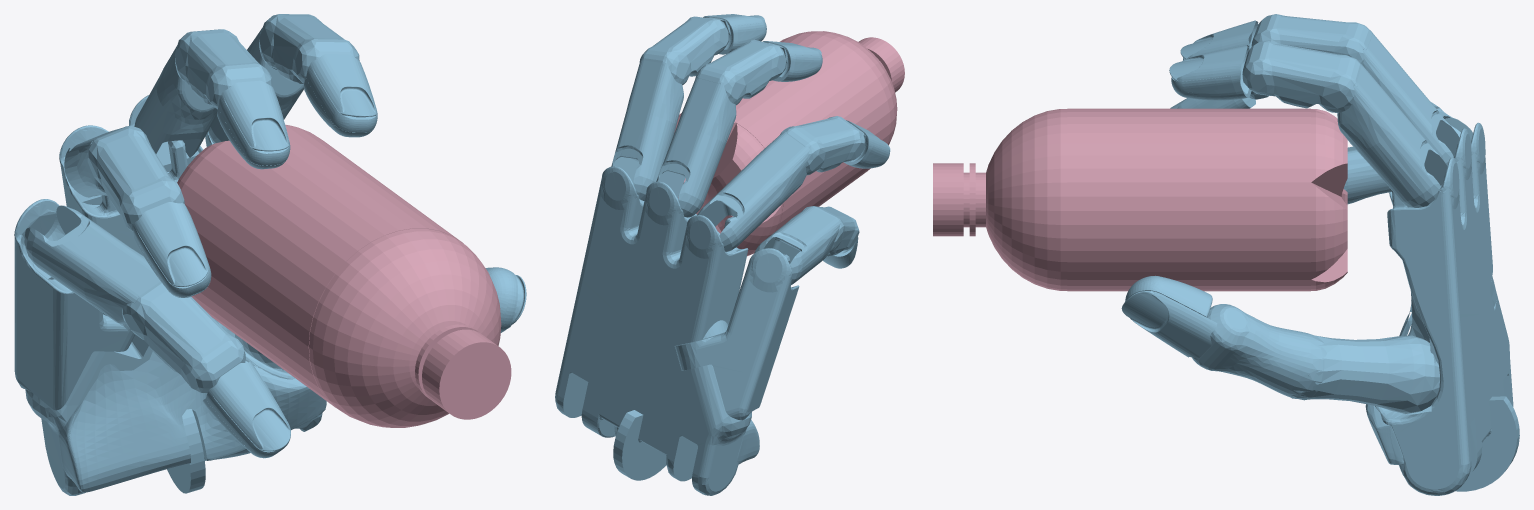
The picture shows the model from 3 angles, left to right: view 1: azimuth 30°, elevation 25°; view 2: azimuth 150°, elevation 25°; view 3: azimuth 270°, elevation 25°; orthographic projection. The views are drawn at different scales.
Visible parts, largest first — view 1: world, water_bottle.stl; view 2: world, water_bottle.stl; view 3: world, water_bottle.stl.
Boxes of the visible parts, x1,y1,x2,y2 form: world: [14, 14, 526, 495]; water_bottle.stl: [177, 124, 511, 427]; world: [555, 14, 890, 495]; water_bottle.stl: [674, 31, 904, 256]; world: [1121, 14, 1519, 495]; water_bottle.stl: [933, 108, 1347, 291].
Size of the model in its own units: 0.1152 by 0.1662 by 0.1932.
